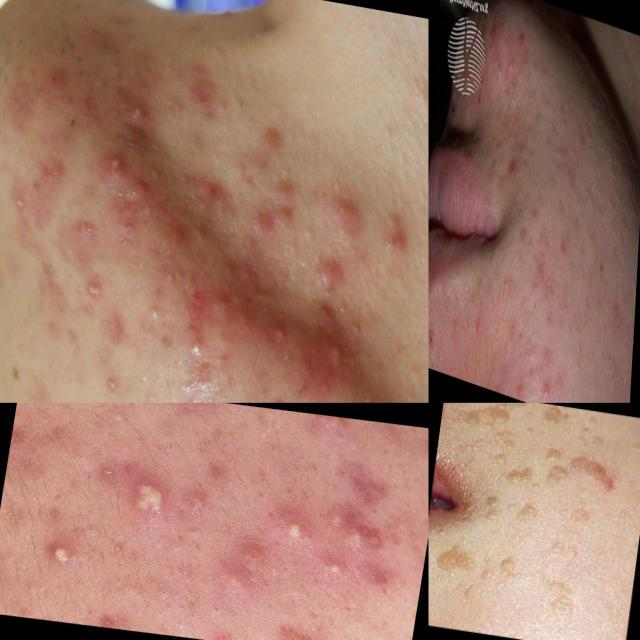acne_scars: (501, 42, 521, 84)
comedone: (490, 54, 506, 96), (527, 202, 542, 235), (540, 367, 554, 399), (500, 269, 512, 304), (156, 581, 174, 600), (187, 606, 200, 624), (245, 606, 259, 622)
flat_wart: (431, 536, 519, 607), (452, 403, 516, 436), (538, 576, 578, 620), (499, 461, 546, 497), (536, 444, 572, 488), (538, 404, 578, 437), (503, 495, 543, 526), (478, 491, 506, 530)
papule: (233, 306, 267, 350), (205, 284, 236, 326), (556, 114, 571, 145), (556, 233, 568, 260)
pustule: (48, 523, 82, 575), (268, 309, 304, 355), (125, 90, 157, 138), (97, 143, 129, 190), (78, 269, 110, 313), (180, 323, 215, 363), (99, 358, 128, 403), (8, 183, 32, 235), (140, 293, 172, 329), (324, 548, 346, 580), (282, 512, 302, 540)
sebo-crystan-conglo: (288, 300, 360, 403), (318, 176, 372, 247), (128, 471, 168, 520), (348, 521, 394, 555)
